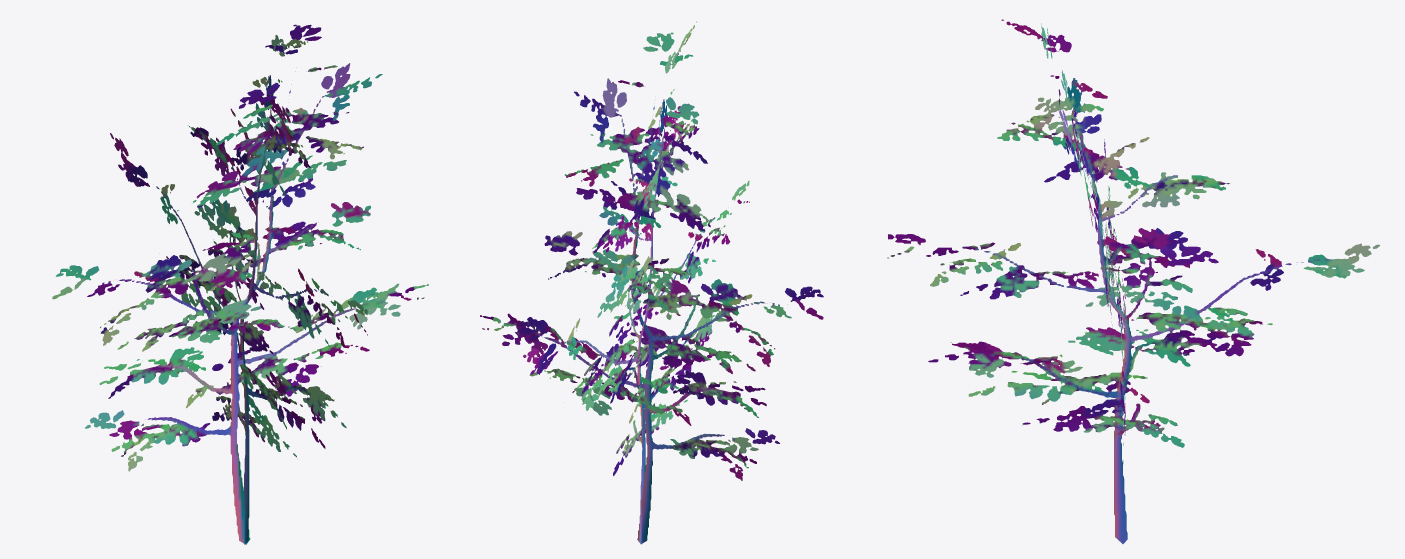
The model's file is beech_tree_00_B_cross.FBX.
The picture shows the model from 3 angles, left to right: view 1: azimuth 30°, elevation 25°; view 2: azimuth 150°, elevation 25°; view 3: azimuth 270°, elevation 25°; orthographic projection. The views are drawn at different scales.
Parts seen in each view (by area): view 1: beech_tree_00_B_cross; view 2: beech_tree_00_B_cross; view 3: beech_tree_00_B_cross.
Part boxes in pixels (box(x1,y1,x2,y2)): beech_tree_00_B_cross: box(52, 24, 428, 544); beech_tree_00_B_cross: box(480, 21, 823, 544); beech_tree_00_B_cross: box(887, 19, 1379, 543).
Size of the model in its own units: 3143 by 3918 by 3490.
